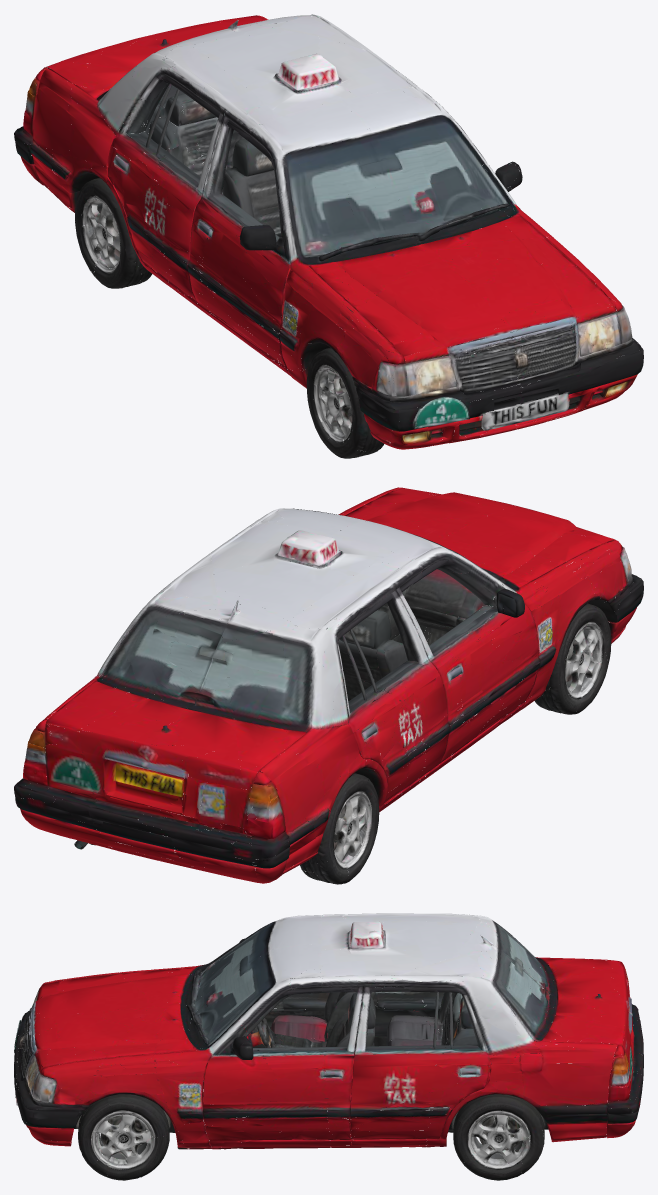
Rendered from hk-taxi.glb.
3 renders of one model, top to bottom at view 1: azimuth 30°, elevation 25°; view 2: azimuth 150°, elevation 25°; view 3: azimuth 270°, elevation 25°, orthographic. The views are drawn at different scales.
Visible parts, largest first — view 1: tripo_node_bc48d3f2-b9e0-4cd2-a02a-3406a2da39dd; view 2: tripo_node_bc48d3f2-b9e0-4cd2-a02a-3406a2da39dd; view 3: tripo_node_bc48d3f2-b9e0-4cd2-a02a-3406a2da39dd.
Boxes of the visible parts, x1,y1,x2,y2 form: tripo_node_bc48d3f2-b9e0-4cd2-a02a-3406a2da39dd: (14, 14, 643, 458); tripo_node_bc48d3f2-b9e0-4cd2-a02a-3406a2da39dd: (14, 487, 643, 884); tripo_node_bc48d3f2-b9e0-4cd2-a02a-3406a2da39dd: (14, 913, 643, 1180).
Bounding box in the file's own units: 0.403 × 0.352 × 0.9787.
1 material, 1 textured.
